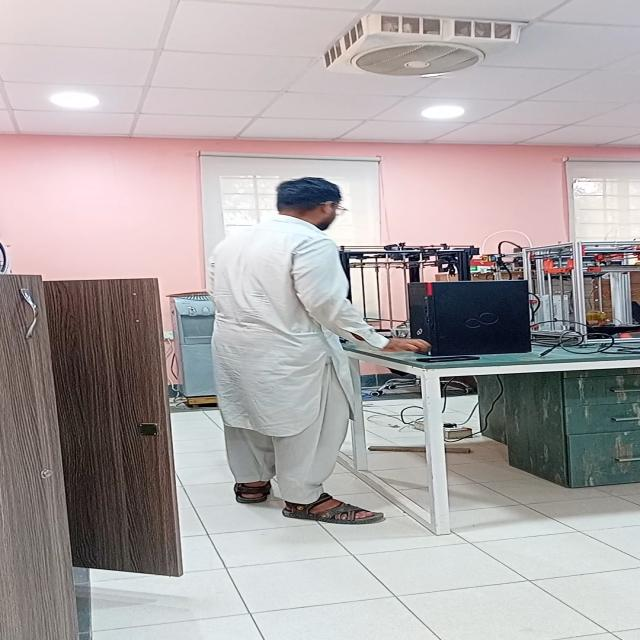dress: (206, 212, 391, 502)
